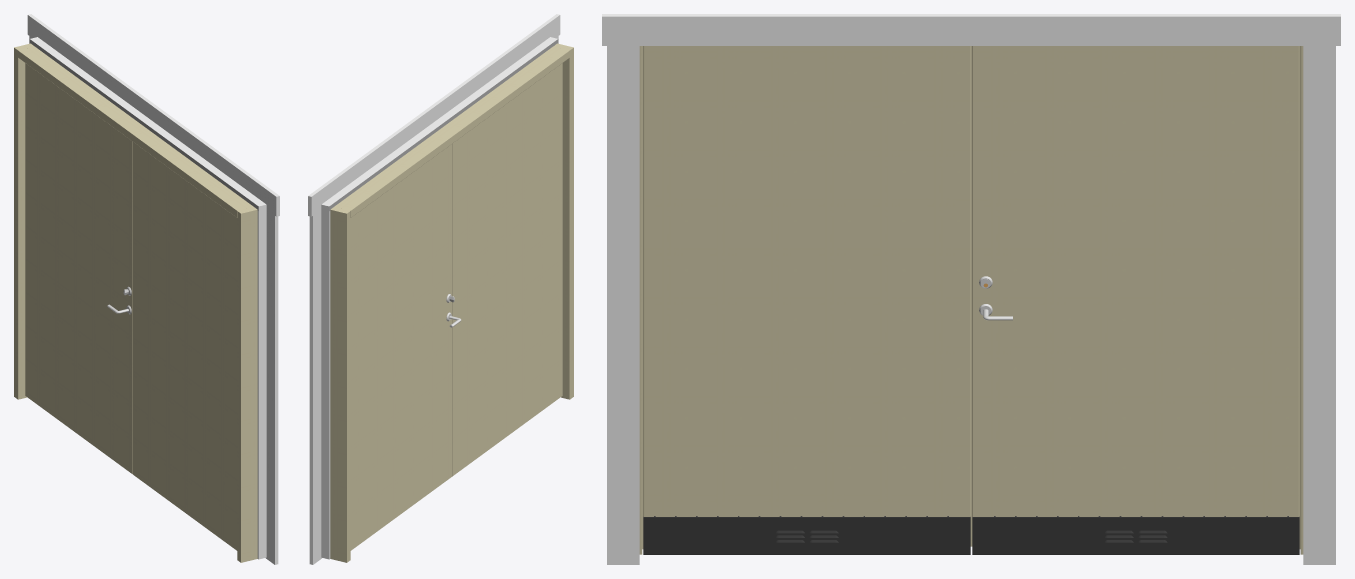
The model's file is dslagport.glb.
The picture shows the model from 3 angles, left to right: view 1: azimuth 30°, elevation 25°; view 2: azimuth 150°, elevation 25°; view 3: azimuth 270°, elevation 25°; orthographic projection. The views are drawn at different scales.
Visible parts, largest first — view 1: window_material-2[1], window_material-2, window_material[2], window_material, accentcolor_cornerboard_material-5, accentcolor_cornerboard_material-6[1], window_material[1], accentcolor_cornerboard_material[1], accentcolor_cornerboard_material-3, accentcolor_cornerboard_material-4, accentcolor_cornerboard_material-2[1]; view 2: window_material-2, window_material-2[1], window_material[1], window_material, accentcolor_cornerboard_material-5, accentcolor_cornerboard_material-6, window_material[2], accentcolor_cornerboard_material, accentcolor_cornerboard_material-3, accentcolor_cornerboard_material-4, accentcolor_cornerboard_material-2; view 3: window_material-2, window_material-2[1], accentcolor_cornerboard_material-5, accentcolor_cornerboard_material-6[1], accentcolor_cornerboard_material-6, matte steel[1], matte steel, window_material[2], window_material[1].
Part boxes in pixels (x1,y1,x2,y2): window_material-2[1]: [25, 63, 132, 474]; window_material-2: [133, 142, 237, 550]; window_material[2]: [237, 207, 257, 562]; window_material: [18, 45, 254, 217]; accentcolor_cornerboard_material-5: [27, 14, 279, 216]; accentcolor_cornerboard_material-6[1]: [266, 210, 278, 564]; window_material[1]: [14, 43, 32, 399]; accentcolor_cornerboard_material[1]: [258, 209, 266, 559]; accentcolor_cornerboard_material-3: [30, 37, 266, 211]; accentcolor_cornerboard_material-4: [29, 39, 258, 210]; accentcolor_cornerboard_material-2[1]: [257, 211, 258, 559]; window_material-2: [452, 63, 562, 476]; window_material-2[1]: [350, 144, 451, 550]; window_material[1]: [330, 207, 350, 562]; window_material: [333, 45, 569, 217]; accentcolor_cornerboard_material-5: [308, 14, 560, 216]; accentcolor_cornerboard_material-6: [309, 210, 321, 564]; window_material[2]: [555, 43, 573, 399]; accentcolor_cornerboard_material: [321, 209, 329, 559]; accentcolor_cornerboard_material-3: [321, 37, 557, 211]; accentcolor_cornerboard_material-4: [329, 39, 558, 210]; accentcolor_cornerboard_material-2: [329, 211, 330, 559]; window_material-2: [643, 46, 972, 546]; window_material-2[1]: [972, 46, 1299, 516]; accentcolor_cornerboard_material-5: [602, 14, 1340, 45]; accentcolor_cornerboard_material-6[1]: [607, 46, 639, 564]; accentcolor_cornerboard_material-6: [1303, 46, 1335, 564]; matte steel[1]: [972, 516, 1299, 554]; matte steel: [643, 516, 970, 554]; window_material[2]: [639, 46, 643, 554]; window_material[1]: [1299, 46, 1303, 554].
Bounding box in the file's own units: 0.228 × 2.22 × 2.72.
22 materials, 13 textured.
